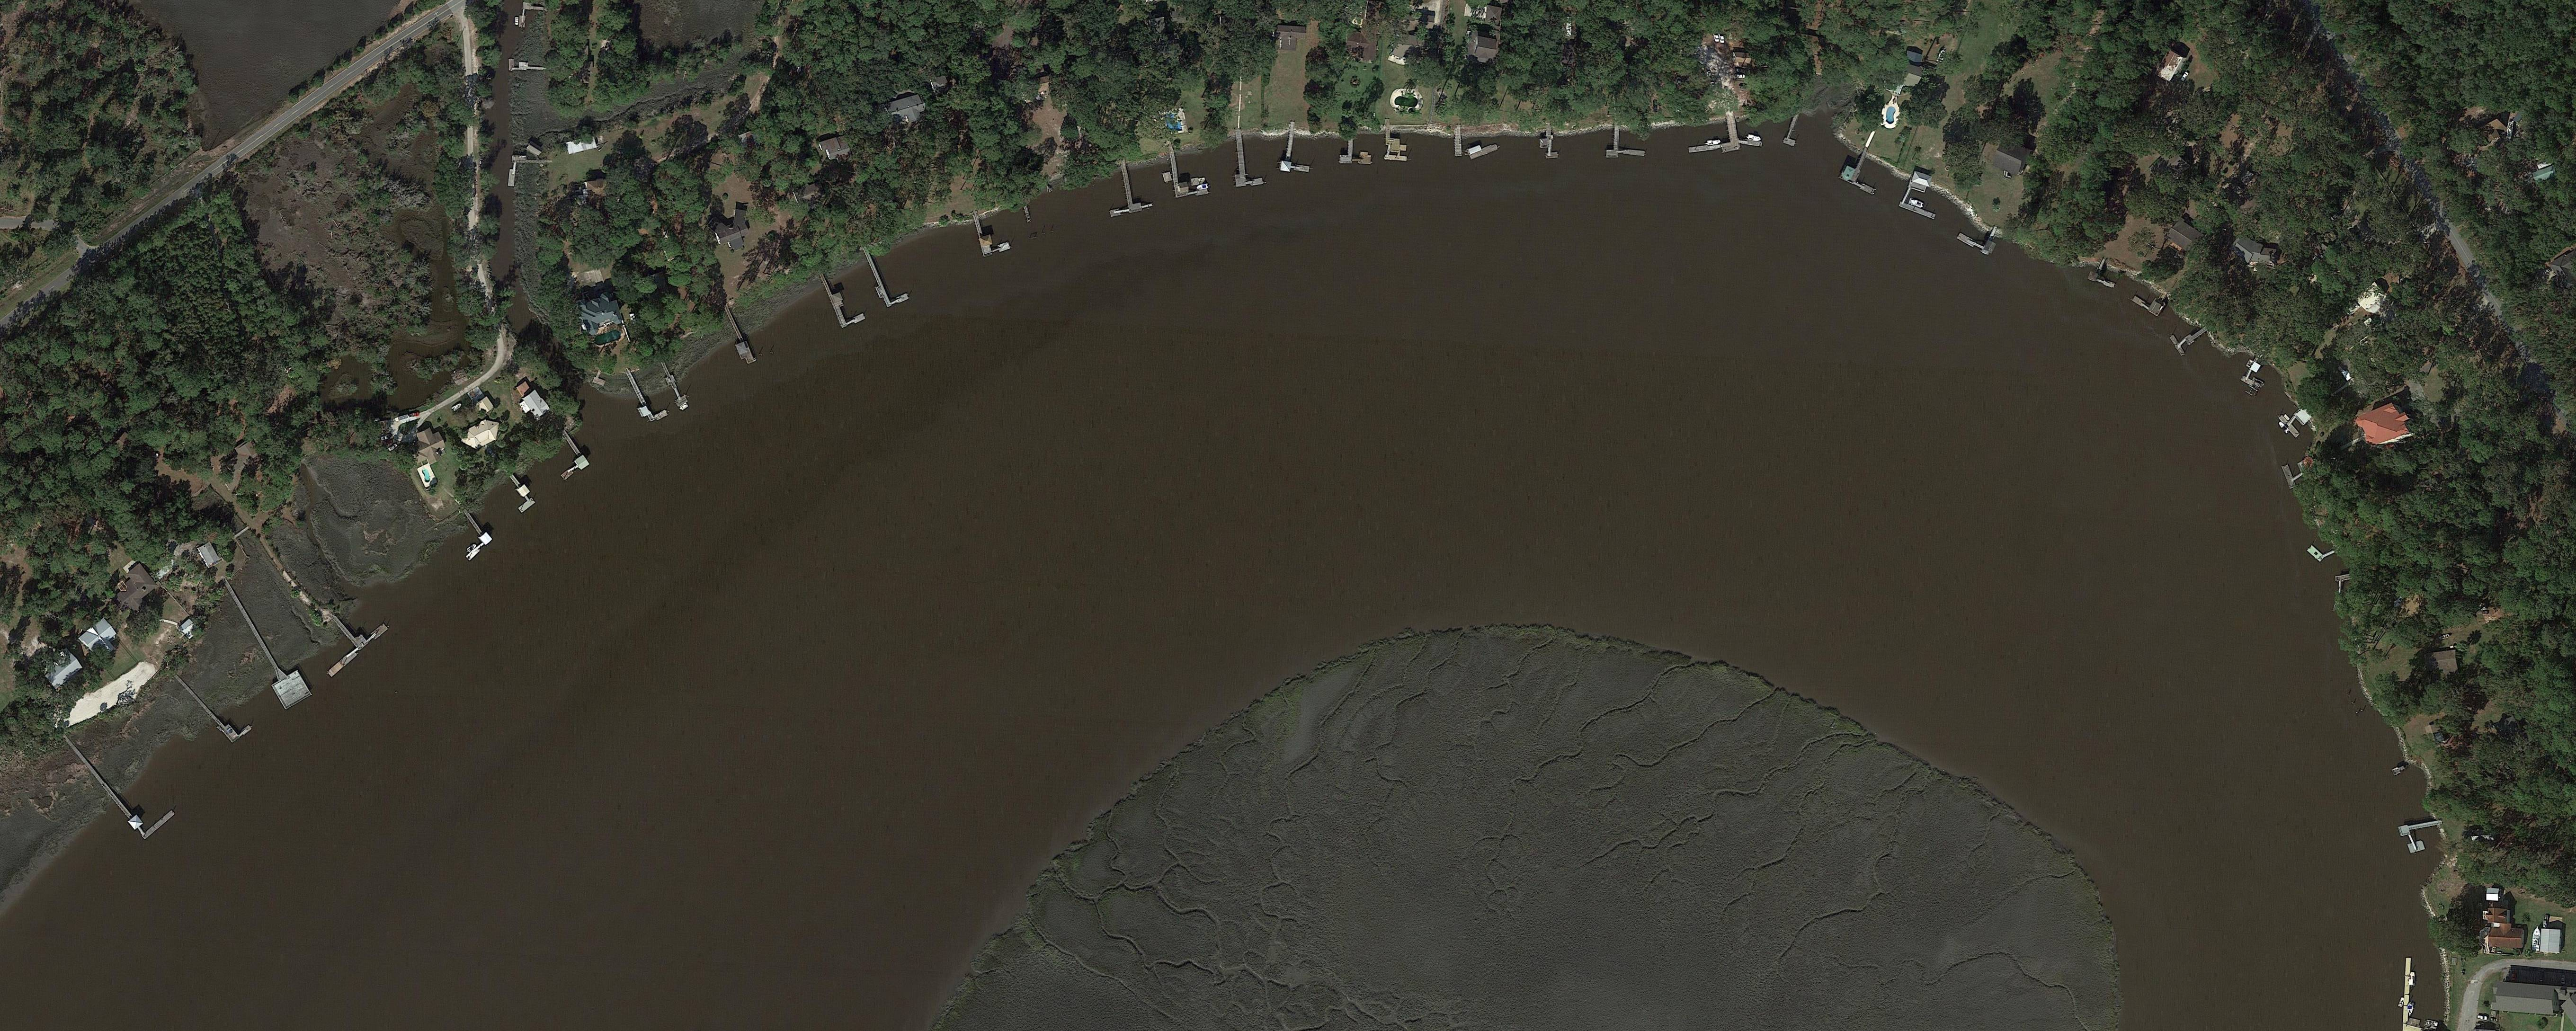harbor: (66, 719, 177, 842), (223, 586, 312, 711), (174, 657, 251, 745), (862, 245, 910, 309), (820, 264, 866, 328), (623, 363, 669, 425), (537, 428, 590, 483), (444, 507, 495, 561), (1106, 161, 1153, 218), (1838, 148, 1888, 195), (721, 304, 756, 366), (1168, 148, 1209, 199), (973, 208, 1012, 258), (1957, 217, 2003, 258), (1899, 181, 1945, 220), (1230, 135, 1263, 187), (2399, 819, 2448, 854), (2170, 318, 2215, 356), (1280, 131, 1314, 177), (499, 473, 537, 514), (332, 609, 370, 650), (659, 360, 688, 407), (1607, 125, 1646, 159), (2277, 404, 2313, 438), (2132, 284, 2169, 317), (327, 647, 361, 678), (2088, 258, 2123, 289), (1341, 135, 1372, 166), (2239, 353, 2267, 387), (1689, 140, 1741, 158), (1383, 125, 1408, 161), (2305, 540, 2339, 563), (1783, 113, 1805, 146), (2282, 461, 2307, 489), (1467, 140, 1498, 161), (2402, 957, 2412, 1024), (1539, 126, 1559, 159), (1738, 136, 1763, 148), (593, 369, 608, 386), (1454, 126, 1462, 156), (2336, 573, 2353, 583)
